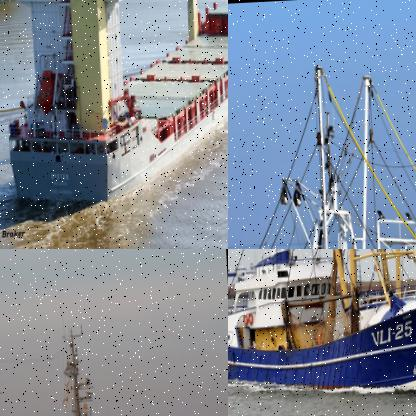Fishing Boat: (228, 52, 415, 248), (228, 249, 415, 402)
Merchant Ship: (0, 0, 227, 209)
Military Ship: (0, 318, 212, 415)
